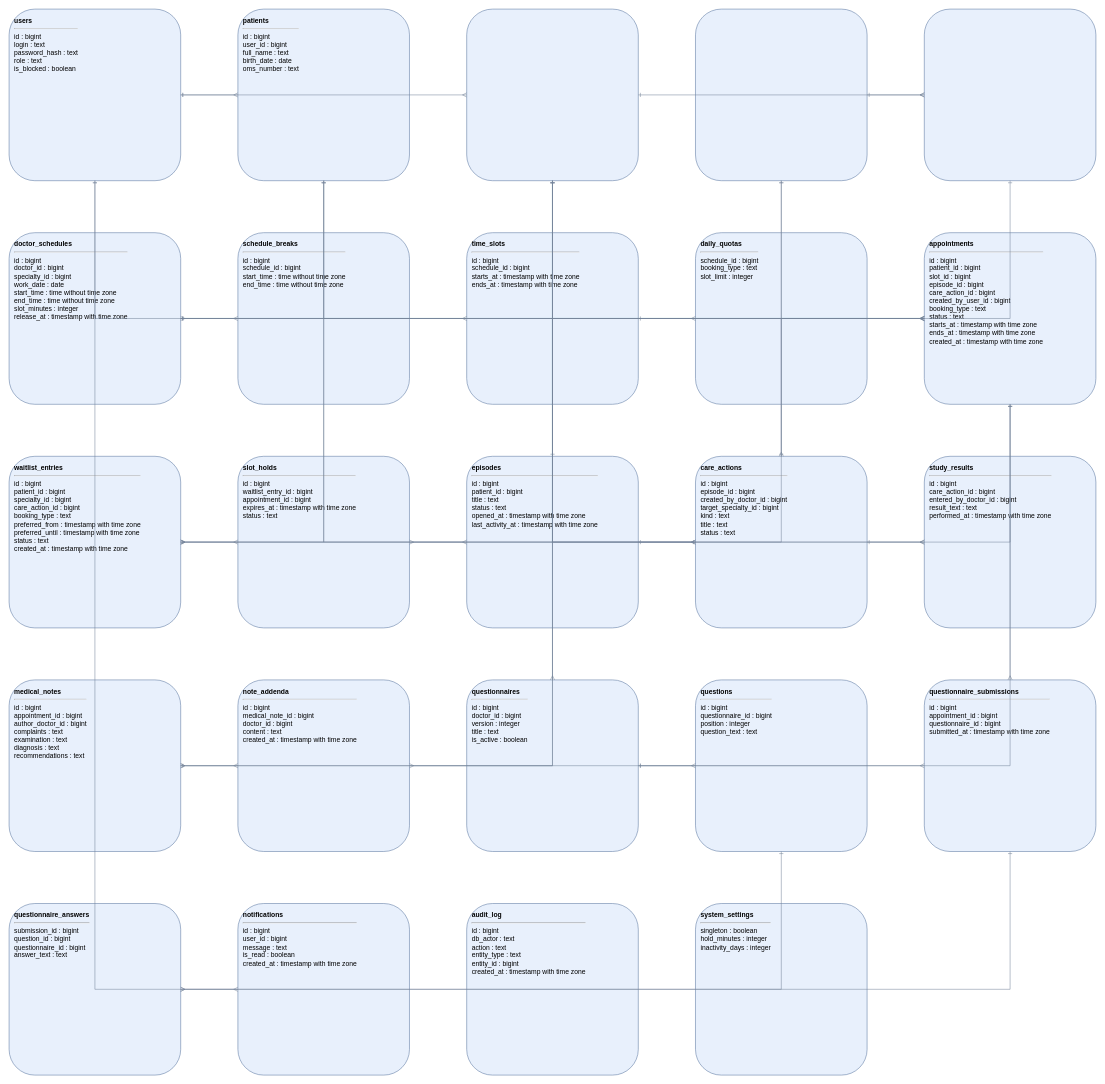
The diagram is 1105 pixels wide and 1084 high, and some of its shapes have lost their labels. The centre of each missing label's shape, as x and y in pixels:
"doctor_specialties doctor_id : bigint specialty_id : bigint" belongs at point 1010,95.
"doctors id : bigint user_id : bigint full_name : text" belongs at point 552,95.
"specialties id : bigint name : text self_booking_allowed : boolean" belongs at point 781,95.
